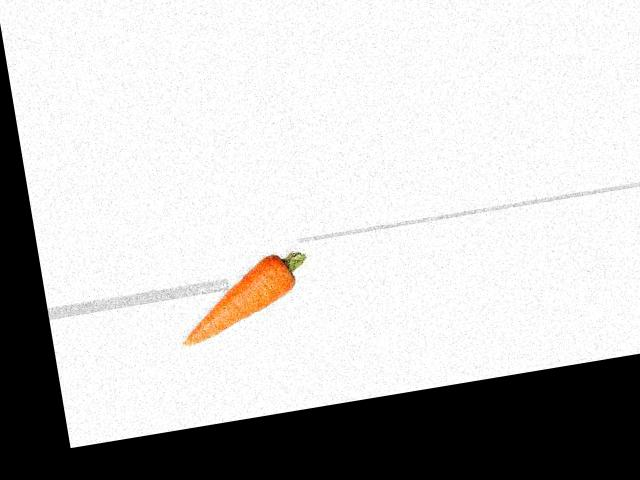carrot: (167, 249, 309, 348)
